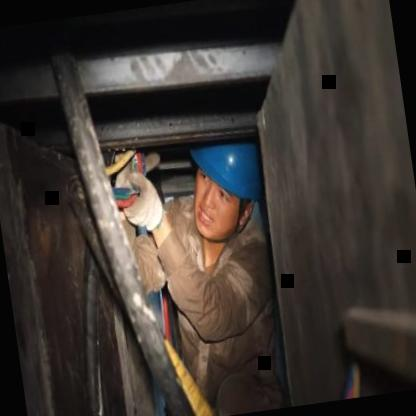helmet: (177, 121, 274, 262)
